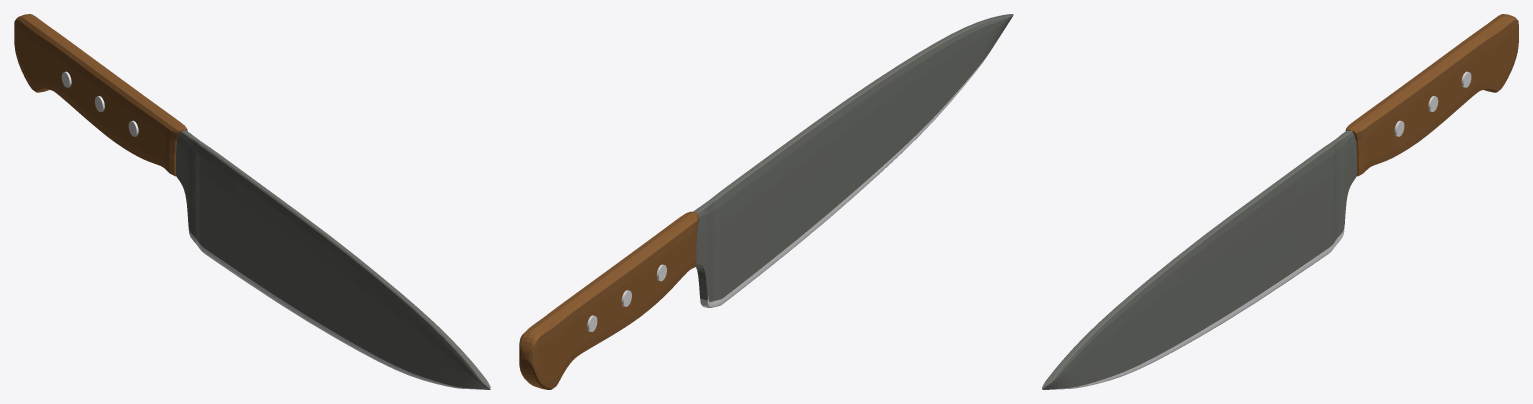
Rendered from knife.fbx.
3 renders of one model, left to right at view 1: azimuth 30°, elevation 25°; view 2: azimuth 150°, elevation 25°; view 3: azimuth 330°, elevation 25°, orthographic. The views are drawn at different scales.
Parts seen in each view (by area): view 1: Cube; view 2: Cube; view 3: Cube.
Part boxes in pixels (left/top/right/bottom): Cube: left=14, top=14, right=490, bottom=389; Cube: left=519, top=14, right=1013, bottom=389; Cube: left=1042, top=14, right=1518, bottom=389.
Bounding box in the file's own units: 11.94 × 61.01 × 488.
